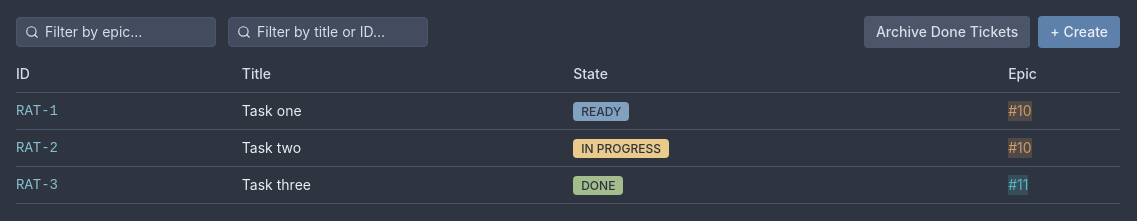
Scenario: TicketsTab › should filter ticket rows by displayId when the title/ID query matches an ID
The width and height of the screenshot is (1137, 221).
Type "RAT-2" into the field labelled "Filter by title or ID…" at coordinates (339, 32), box [251, 18, 427, 46]
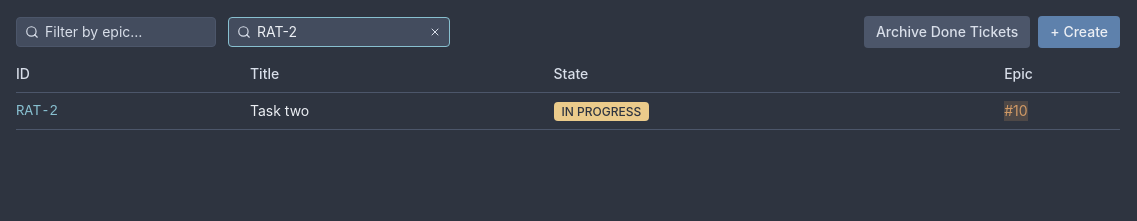
Expected: the text "RAT-2" is shown, [16, 92, 250, 130]
Expected: the text "RAT-1" is gone
Expected: the text "RAT-3" is gone
